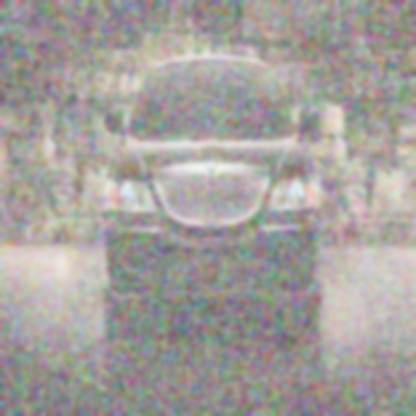Vehicle: (97, 24, 328, 344)
